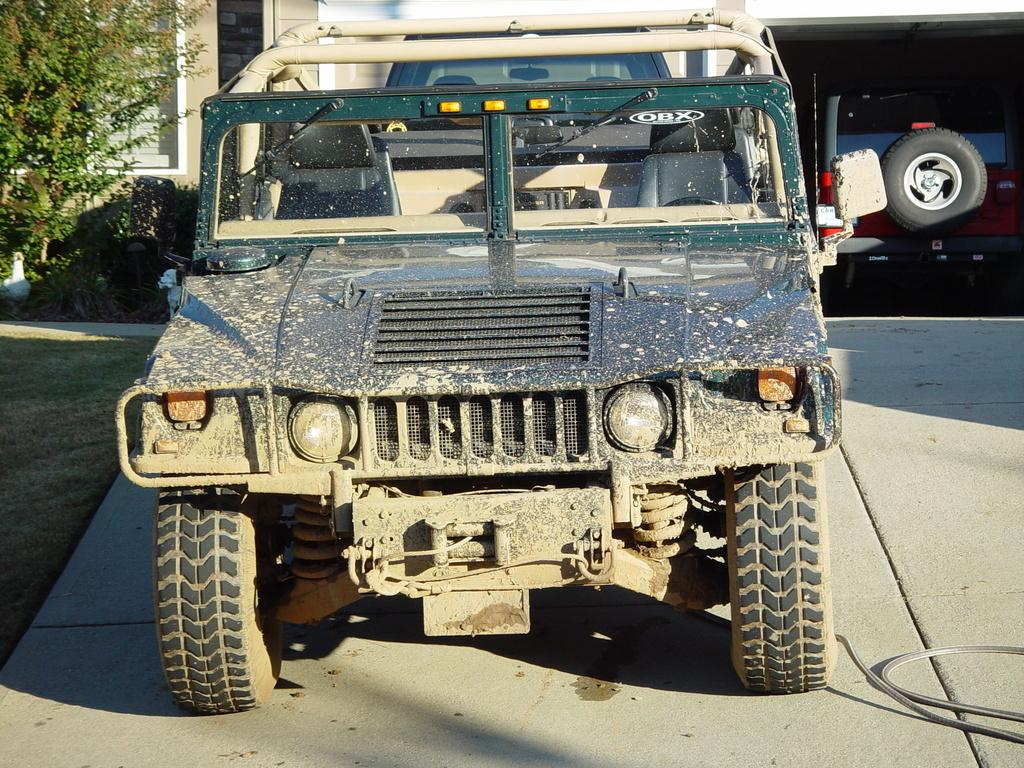car: (768, 11, 1005, 372)
